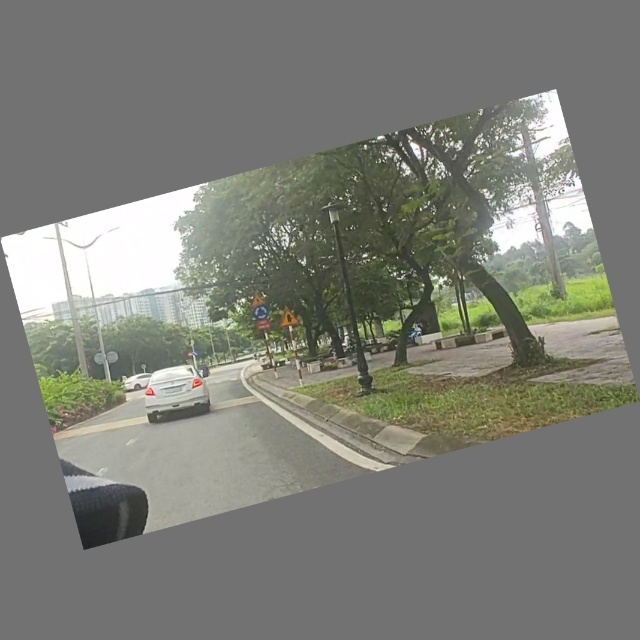P.102: (186, 351, 193, 358)
R.302a: (192, 349, 201, 359)
R.303: (252, 305, 271, 322)
W.207: (278, 308, 301, 330)
W.224: (247, 292, 267, 309)
